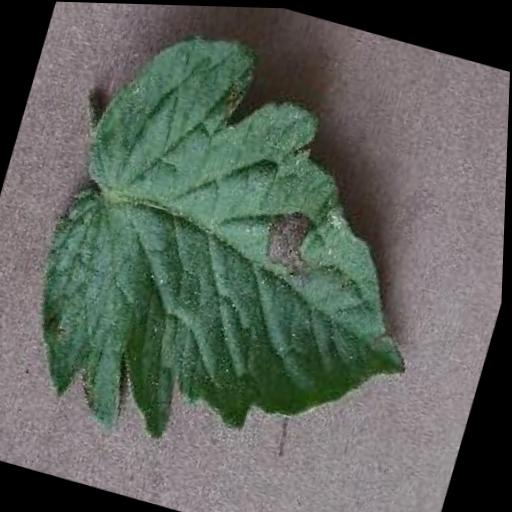Early Blight: (0, 2, 487, 499)
